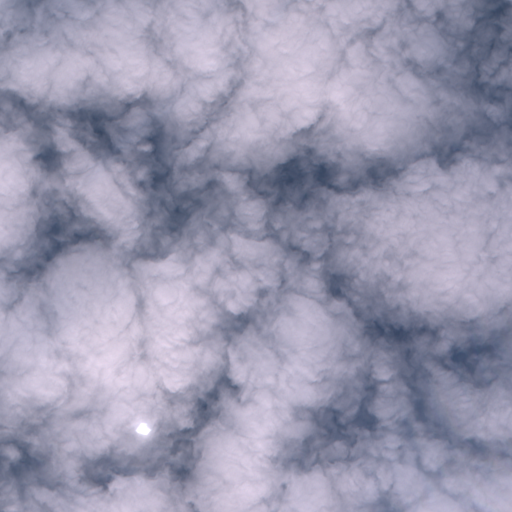Iceberg: (136, 423, 150, 434)
